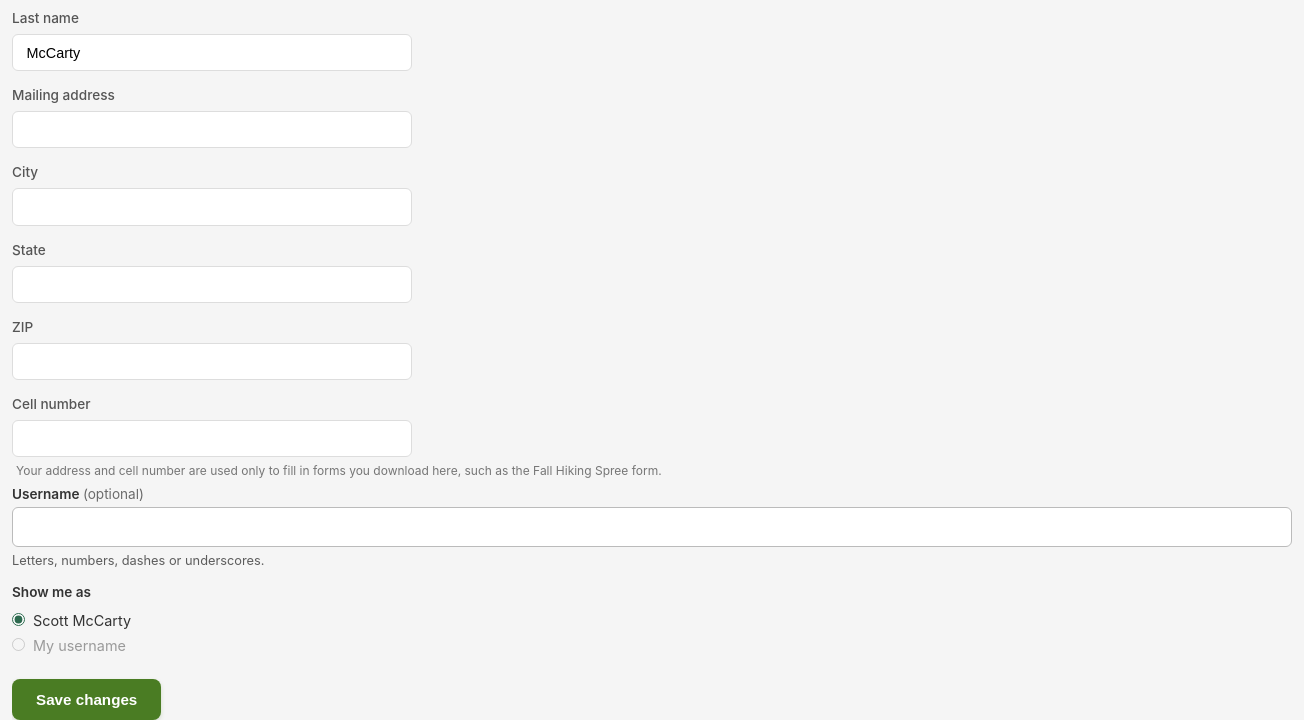
Test: AccountProfile › says which half was saved when the details could not be
(page scrolled)
What coordinates should you click on to do the following:
click the button "Save changes"
I would click on:
 (87, 700)
Its box is [12,679,161,719].
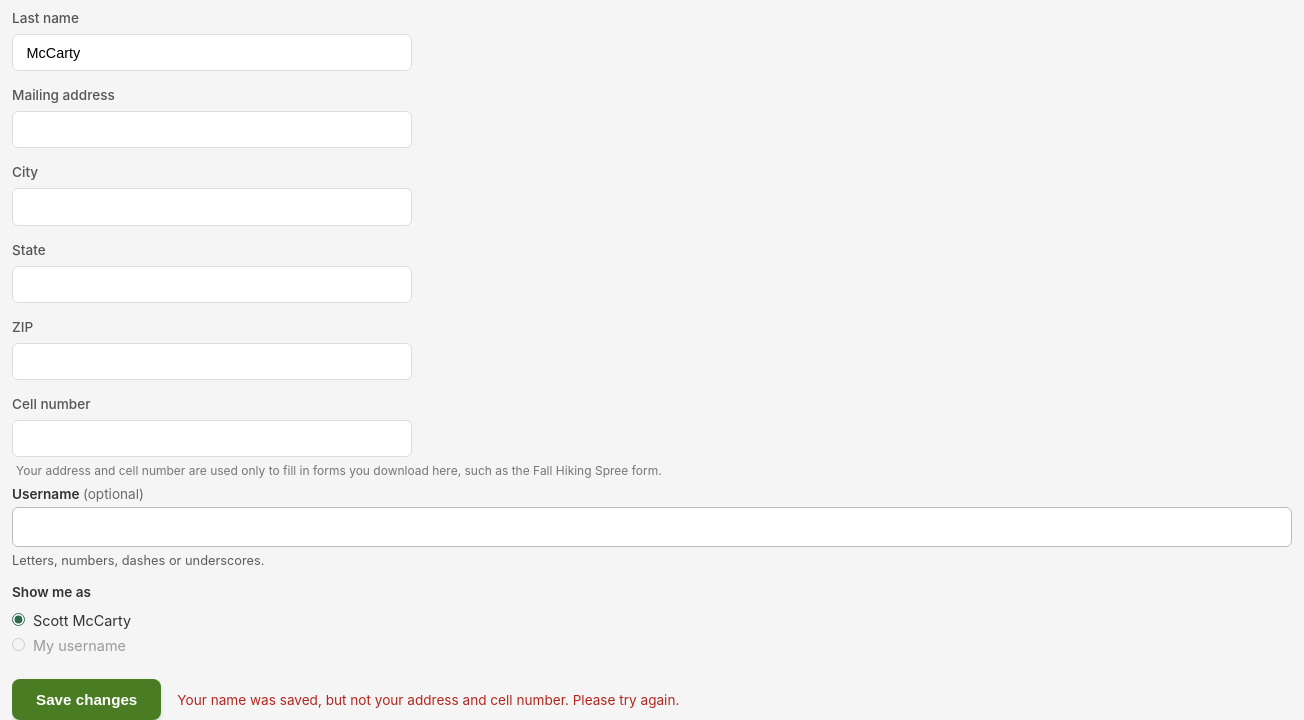
Expected: the message shows "name was saved, but not your address", [177,692,679,708]
